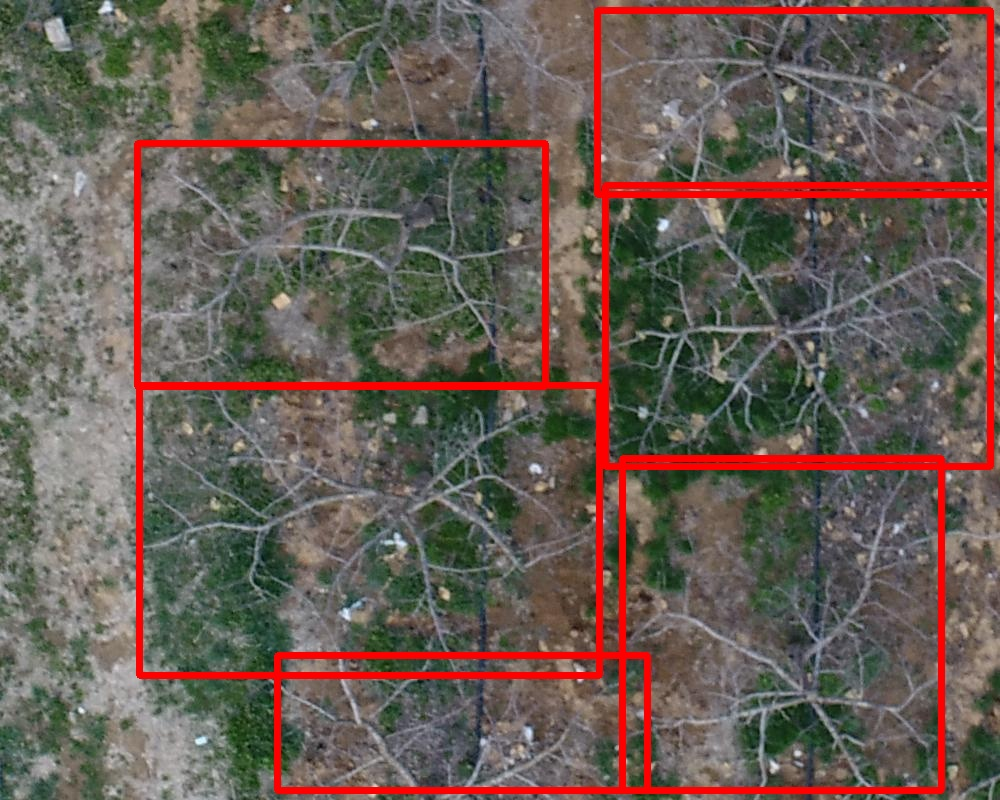apple: (139, 385, 599, 675), (605, 185, 990, 466), (622, 458, 941, 790), (137, 143, 545, 386), (597, 10, 990, 194), (277, 655, 647, 790)
